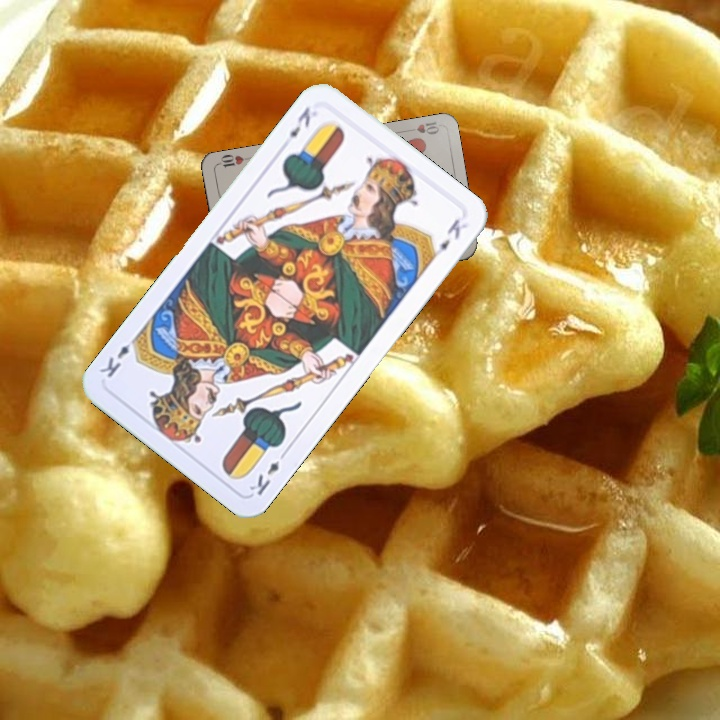EK: (245, 446, 290, 498), (285, 102, 313, 141)
H10: (401, 117, 442, 137)
